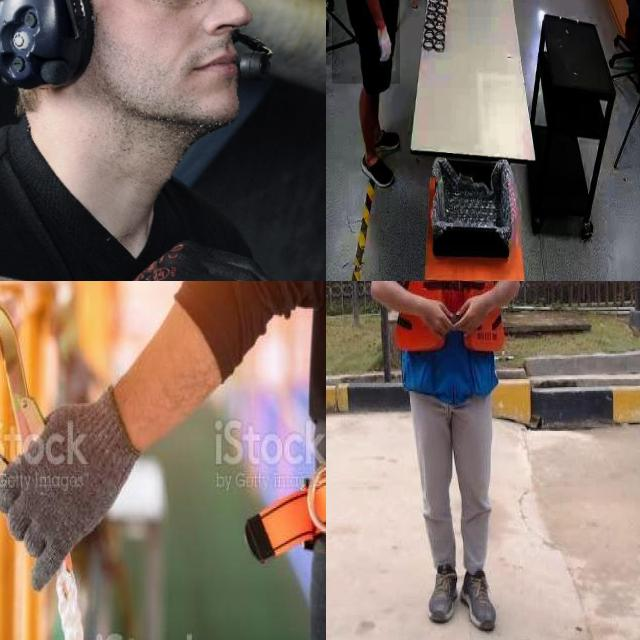Ear-protection: (0, 0, 276, 139)
boots: (459, 566, 498, 631), (428, 562, 456, 624)
hand_glove: (373, 21, 396, 72)
person: (351, 281, 527, 639), (331, 0, 400, 84)
shoes: (360, 148, 398, 194)
